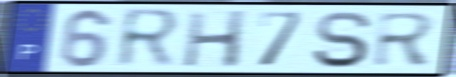6: (57, 7, 114, 70)
7: (257, 10, 305, 68)
H: (180, 8, 250, 70)
R: (114, 6, 185, 71), (370, 11, 438, 69)
S: (310, 10, 375, 70)
